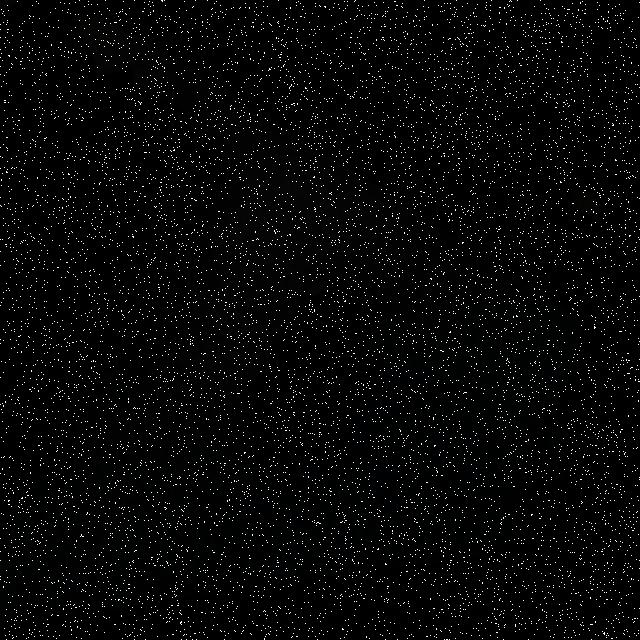adapter: (272, 281, 390, 470)
